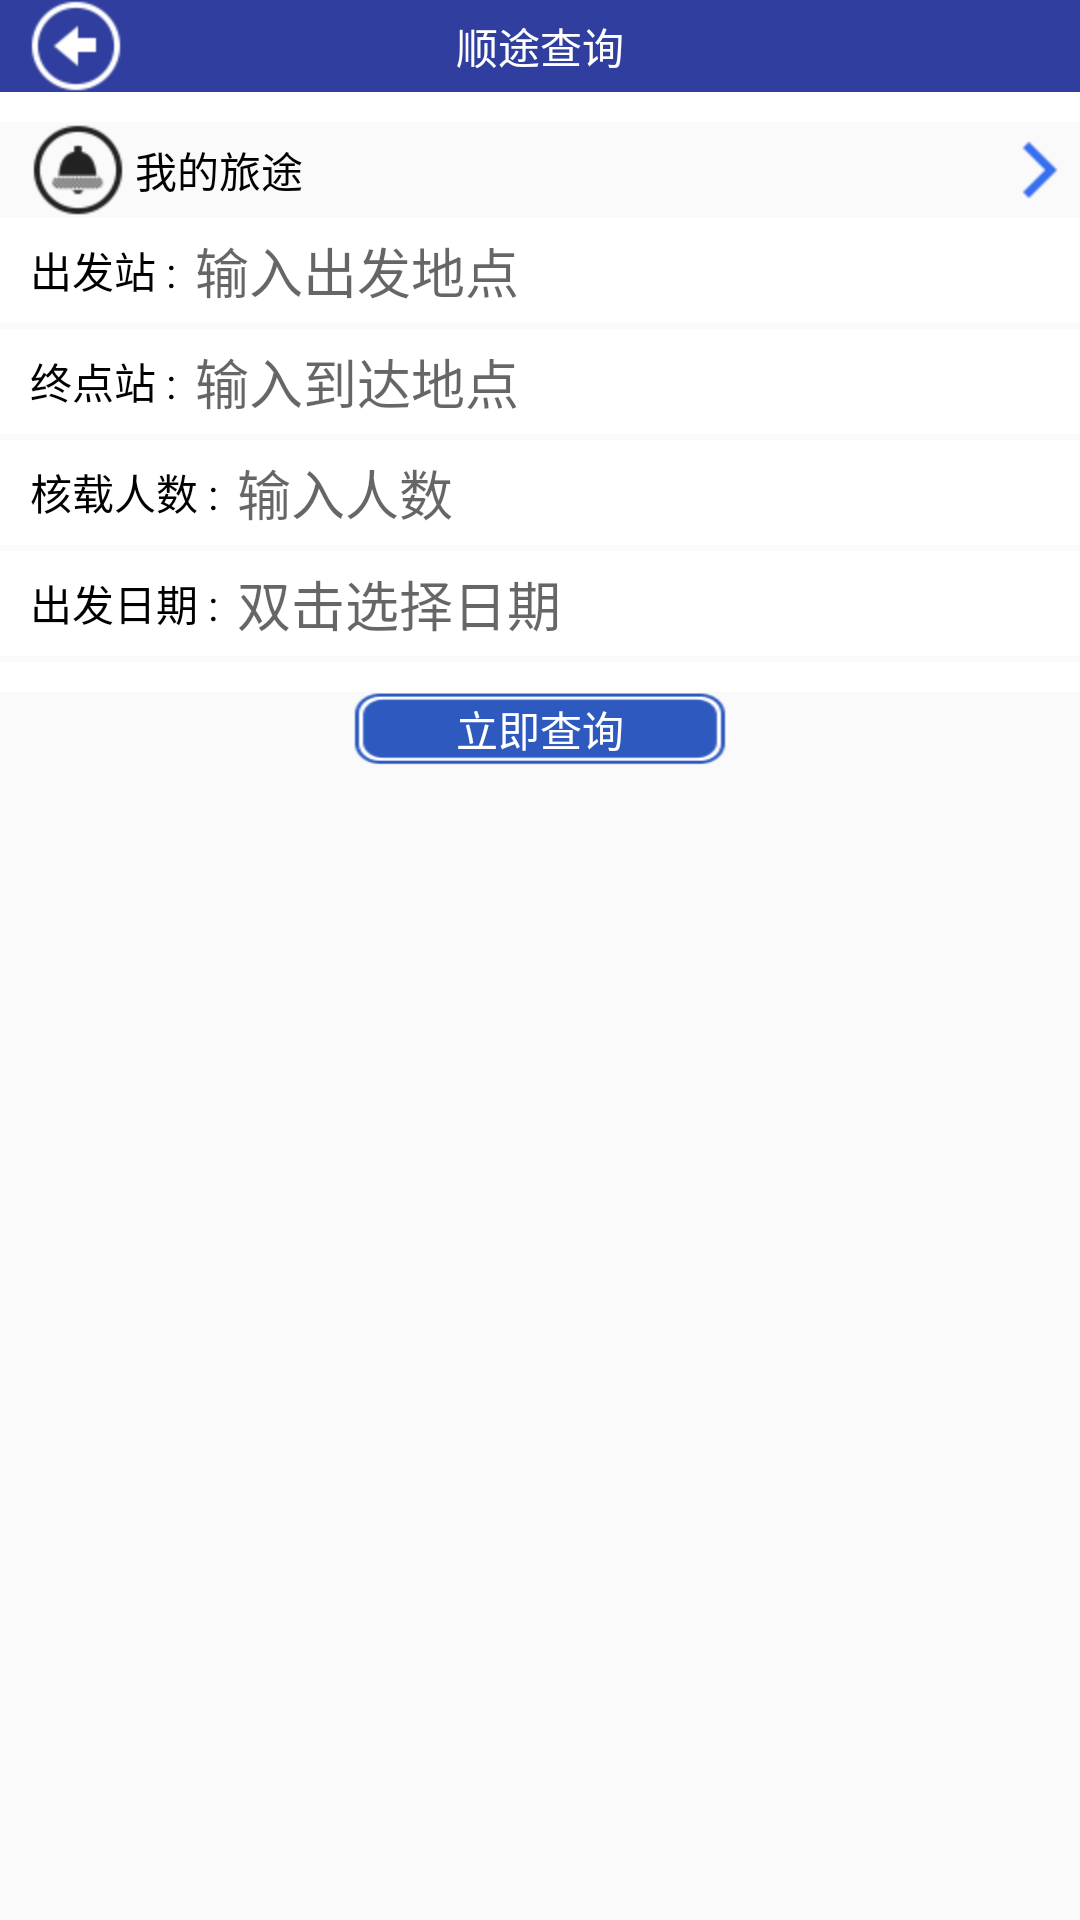

Icons on this 1080*1920 Android screen, each with the point to tap as (x,y):
fanhui: (76,46)
jiantou: (1039,170)
